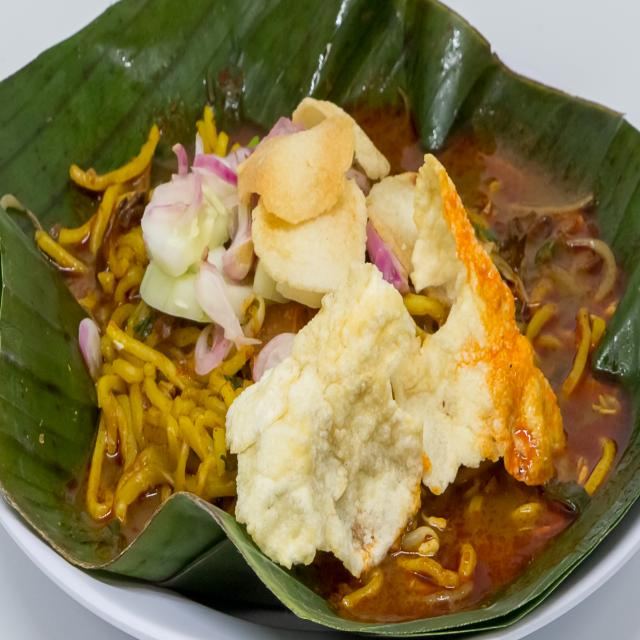Mie-Aceh: (36, 57, 625, 597)
